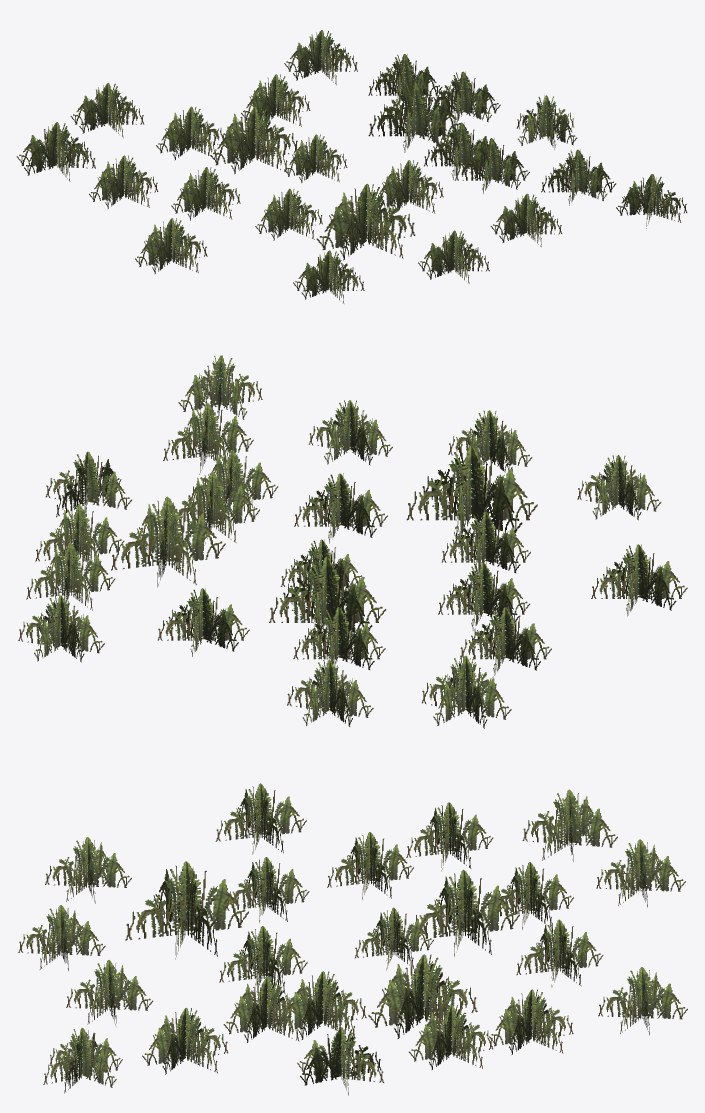
Rendered from grasstest4.obj.
3 renders of one model, top to bottom at view 1: azimuth 30°, elevation 25°; view 2: azimuth 150°, elevation 25°; view 3: azimuth 270°, elevation 25°, orthographic. The views are drawn at different scales.
Visible parts, largest first — view 1: Plane010, Plane017, Plane022, Plane026, Plane014, Plane004, Plane006, Plane025, Plane019, Plane013, Plane008, Plane023 (+12 smaller); view 2: Plane010, Plane017, Plane022, Plane026, Plane014, Plane008, Plane020, Plane023, Plane024, Plane025, Plane019, Plane013 (+12 smaller); view 3: Plane010, Plane017, Plane022, Plane026, Plane007, Plane004, Plane014, Plane015, Plane016, Plane018, Plane006, Plane008 (+12 smaller).
Part boxes in pixels (x1,y1,x2,y2): Plane010: (316,184,415,260); Plane017: (368,82,460,152); Plane022: (210,106,297,174); Plane026: (16,122,95,181); Plane014: (135,218,207,273); Plane004: (541,149,616,205); Plane006: (454,138,529,193); Plane025: (70,83,144,137); Plane019: (284,30,357,85); Plane013: (171,167,240,220); Plane008: (376,160,443,213); Plane023: (89,155,158,208); Plane010: (406,445,537,542); Plane017: (111,496,225,587); Plane022: (269,556,386,637); Plane026: (421,655,511,728); Plane014: (591,544,687,616); Plane008: (294,473,387,543); Plane020: (157,588,249,656); Plane023: (460,607,551,675); Plane024: (293,606,385,669); Plane025: (287,659,373,726); Plane019: (18,595,104,662); Plane013: (438,562,530,630); Plane010: (125,861,248,959); Plane017: (368,954,477,1038); Plane022: (410,869,519,956); Plane026: (522,789,617,861); Plane007: (278,971,366,1039); Plane004: (142,1008,228,1074); Plane014: (215,783,306,854); Plane015: (297,1027,384,1095); Plane016: (408,1004,493,1069); Plane018: (489,989,573,1054); Plane006: (223,976,306,1042); Plane008: (219,926,307,993).
Size of the model in its own units: 3094 by 382 by 3113.
